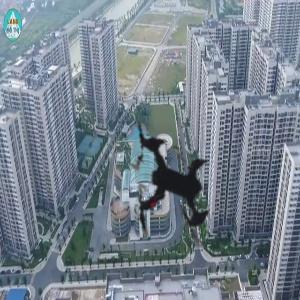drone: (70, 86, 269, 285)
